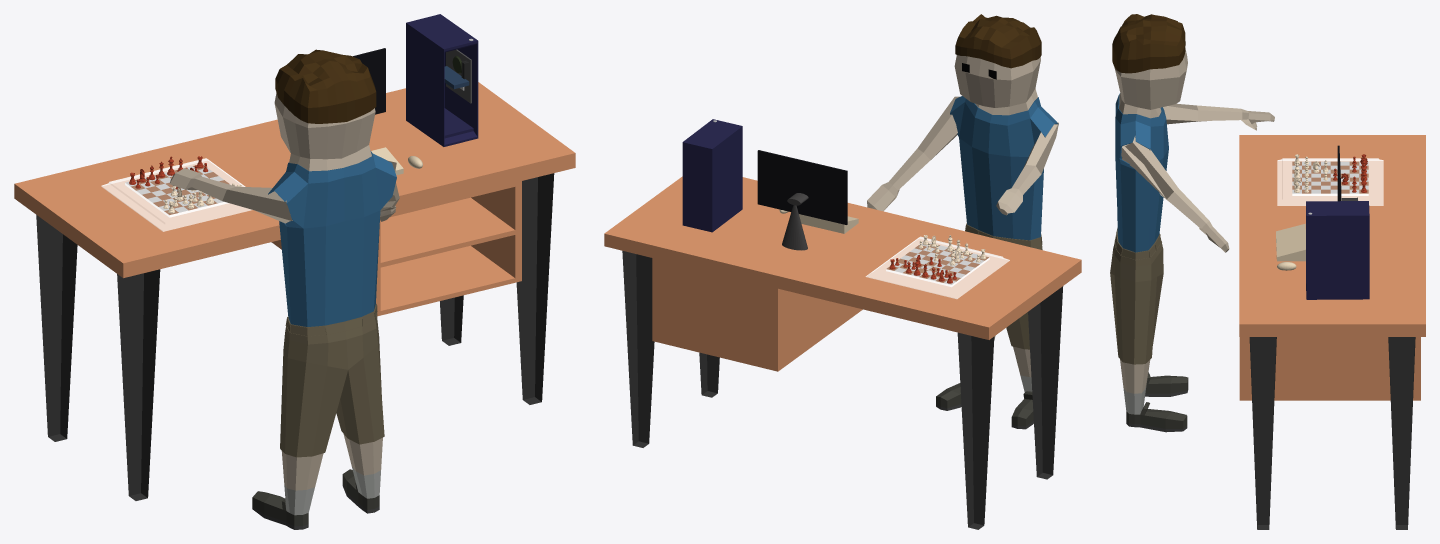
The model's file is desk_table.glb.
The picture shows the model from 3 angles, left to right: view 1: azimuth 30°, elevation 25°; view 2: azimuth 150°, elevation 25°; view 3: azimuth 270°, elevation 25°; orthographic projection. The views are drawn at different scales.
Parts seen in each view (by area): view 1: Cube.015, Cube, Plane, Cube.001, Cube.009, Chessboard Surround, Cube.013, Chessboard, Cube.007; view 2: Cube, Cube.015, Plane, Cube.001, Cube.009, Cube.007, Chessboard Surround, Cube.014, Chessboard, Cube.013, Cone, Cube.006; view 3: Cube, Cube.015, Cube.001, Plane, Cube.009, Cube.014, Chessboard Surround, Chessboard, Cube.013, Cube.006.
Boxes of the visible parts, x1,y1,x2,y2 form: Cube.015: [252, 49, 396, 529]; Cube: [14, 82, 575, 278]; Plane: [36, 173, 554, 500]; Cube.001: [271, 181, 521, 316]; Cube.009: [406, 14, 478, 146]; Chessboard Surround: [101, 158, 251, 231]; Cube.013: [169, 168, 292, 223]; Chessboard: [125, 164, 230, 214]; Cube.007: [353, 48, 385, 114]; Cube: [604, 176, 1081, 339]; Cube.015: [936, 14, 1058, 429]; Plane: [622, 251, 1063, 529]; Cube.001: [652, 258, 862, 371]; Cube.009: [682, 119, 742, 232]; Cube.007: [757, 150, 847, 224]; Chessboard Surround: [865, 236, 1009, 298]; Cube.014: [867, 96, 959, 211]; Chessboard: [886, 242, 988, 284]; Cube.013: [996, 122, 1058, 215]; Cone: [782, 205, 807, 250]; Cube.006: [799, 214, 858, 233]; Cube: [1239, 135, 1425, 336]; Cube.015: [1110, 14, 1188, 432]; Cube.001: [1239, 337, 1420, 400]; Plane: [1249, 337, 1415, 529]; Cube.009: [1306, 201, 1369, 299]; Cube.014: [1121, 136, 1229, 252]; Chessboard Surround: [1277, 158, 1383, 205]; Chessboard: [1292, 161, 1368, 193]; Cube.013: [1163, 103, 1274, 130]; Cube.006: [1276, 223, 1305, 261].
Bounding box in the file's own units: 16.59 × 16.05 × 11.69.
